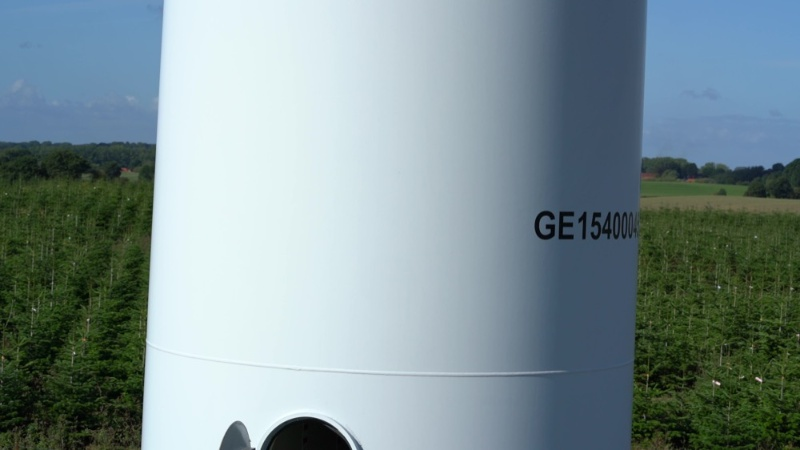weldseam: (143, 336, 637, 380)
